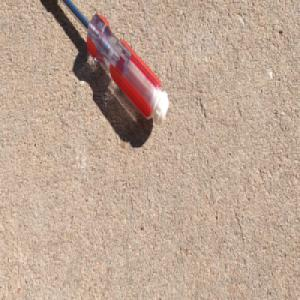Screwdriver: (55, 0, 170, 126)
